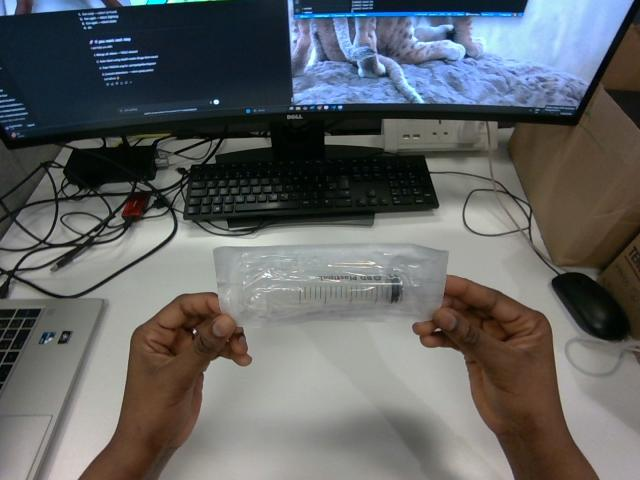syringe: (214, 243, 447, 326)
